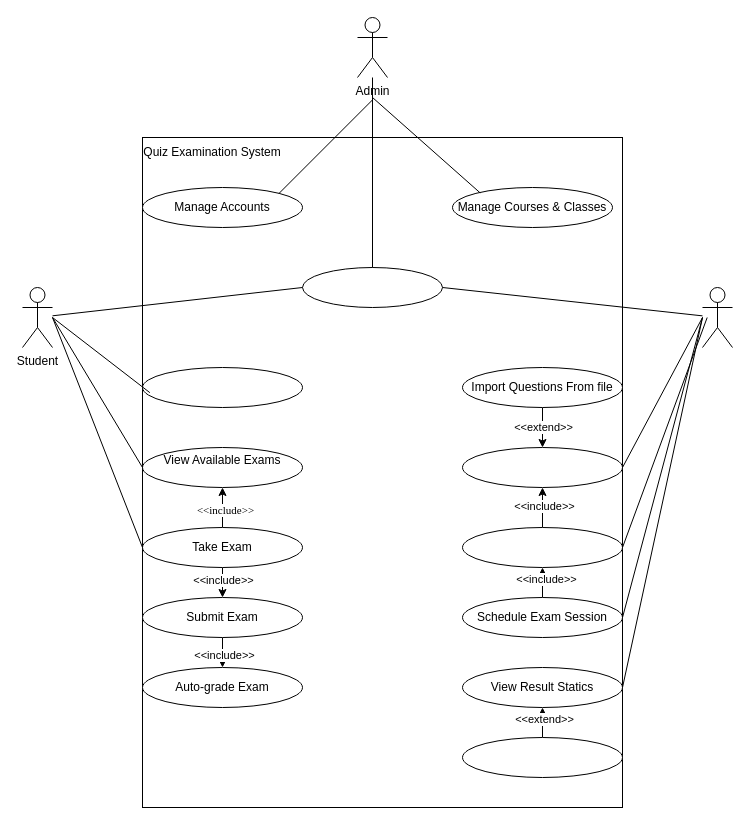
The diagram is 756 pixels wide and 825 high, and some of its shapes have lost their labels. The centre of each missing label's shape, as x and y in pixels:
Create Exam Paper: point (542, 547)
Export Report: point (542, 757)
Log in: point (372, 287)
Manage Question Bank: point (542, 467)
Teacher: point (717, 317)
View Exam Result: point (222, 387)
